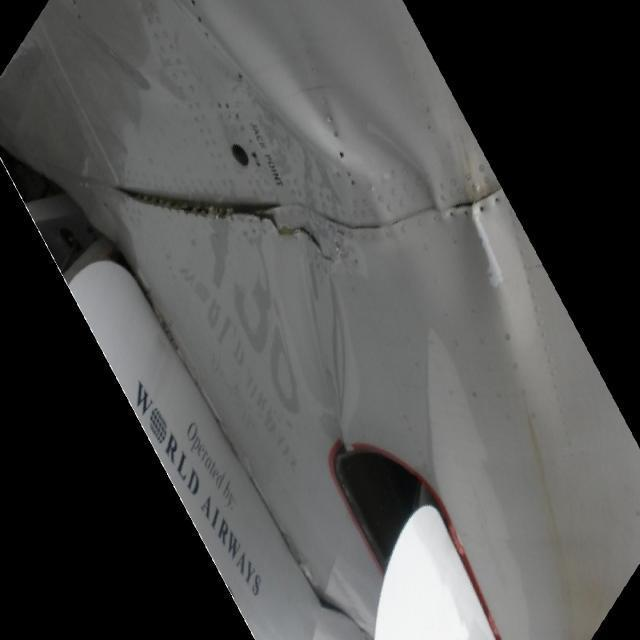crack: (251, 201, 337, 271)
dent: (208, 1, 438, 220)
